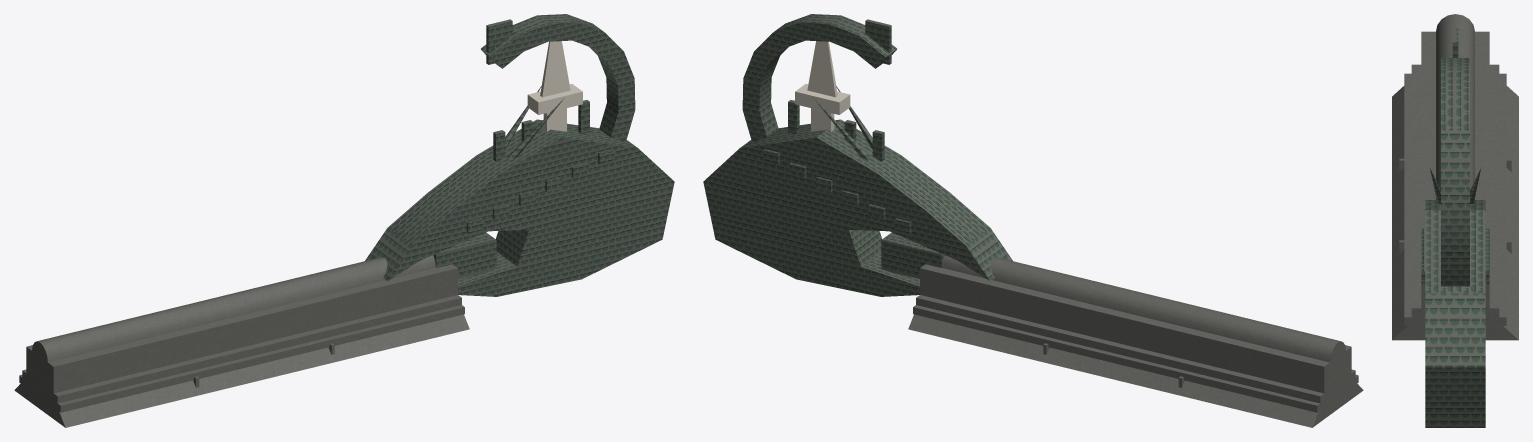
The model's file is ji-zhengji-zhengwen.glb.
3 views of the same model, side by side, from view 1: azimuth 30°, elevation 25°; view 2: azimuth 150°, elevation 25°; view 3: azimuth 270°, elevation 25° (orthographic). The views are drawn at different scales.
Parts seen in each view (by area): view 1: zhengwen, zhengji, wen_sword; view 2: zhengwen, zhengji, wen_sword; view 3: zhengji, zhengwen.
Boxes of the visible parts, x1=… form: zhengwen: x1=365, y1=14, x2=674, y2=296; zhengji: x1=14, y1=255, x2=469, y2=427; wen_sword: x1=527, y1=41, x2=582, y2=131; zhengwen: x1=703, y1=14, x2=1012, y2=296; zhengji: x1=908, y1=255, x2=1363, y2=427; wen_sword: x1=795, y1=41, x2=850, y2=131; zhengji: x1=1392, y1=14, x2=1518, y2=340; zhengwen: x1=1421, y1=28, x2=1489, y2=427.
Size of the model in its own units: 3.08 by 1.3 by 0.44.
Materials: 5 (2 with a texture image).
